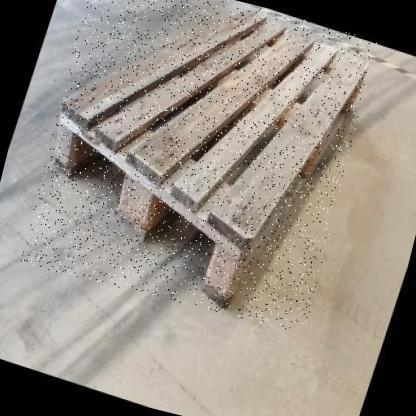pallet: (53, 9, 377, 309)
